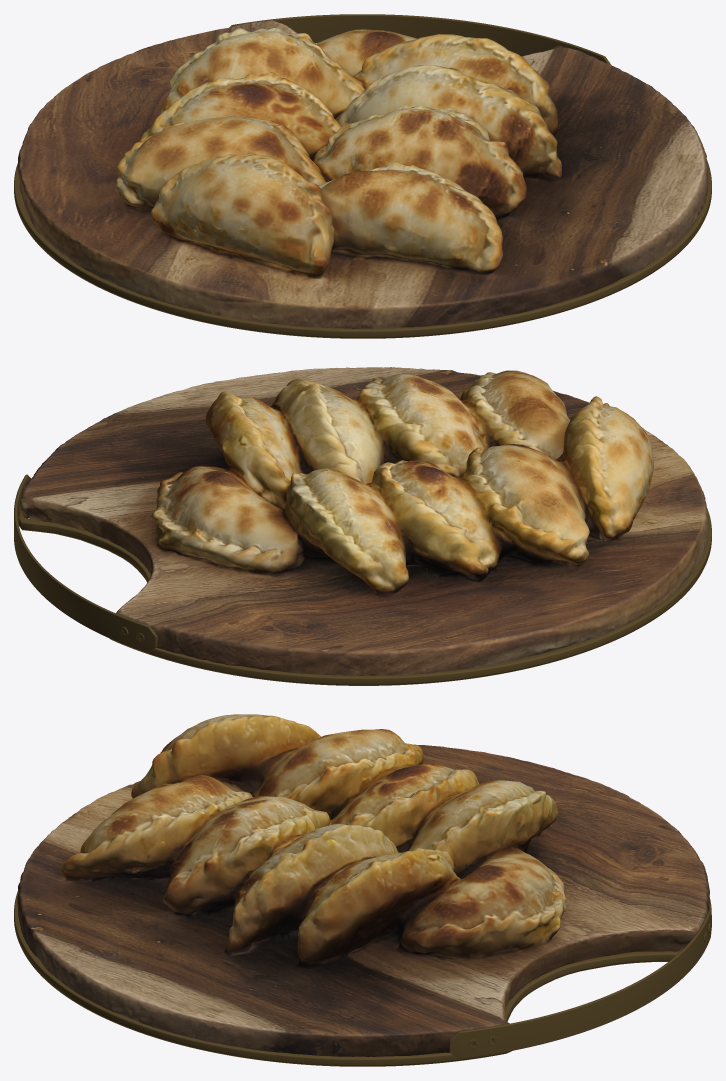
File: hhm_empanadas.glb
3 views of the same model, one above another, from view 1: azimuth 30°, elevation 25°; view 2: azimuth 150°, elevation 25°; view 3: azimuth 270°, elevation 25° (orthographic).
Parts seen in each view (by area): view 1: Comida, Base_primitive0; view 2: Comida, Base_primitive0; view 3: Comida, Base_primitive0.
Boxes of the visible parts, box(x1,y1,x2,y2) form: Comida: box(17, 20, 708, 328); Base_primitive0: box(14, 14, 711, 338); Comida: box(19, 367, 707, 675); Base_primitive0: box(14, 474, 711, 685); Comida: box(17, 714, 709, 1056); Base_primitive0: box(14, 890, 711, 1066).
Size of the model in its own units: 0.3638 by 0.07 by 0.3639.
3 materials, 1 textured.
